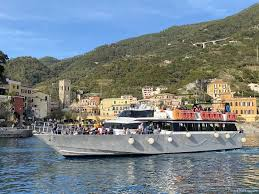boat: (31, 106, 245, 158), (1, 125, 32, 138)
